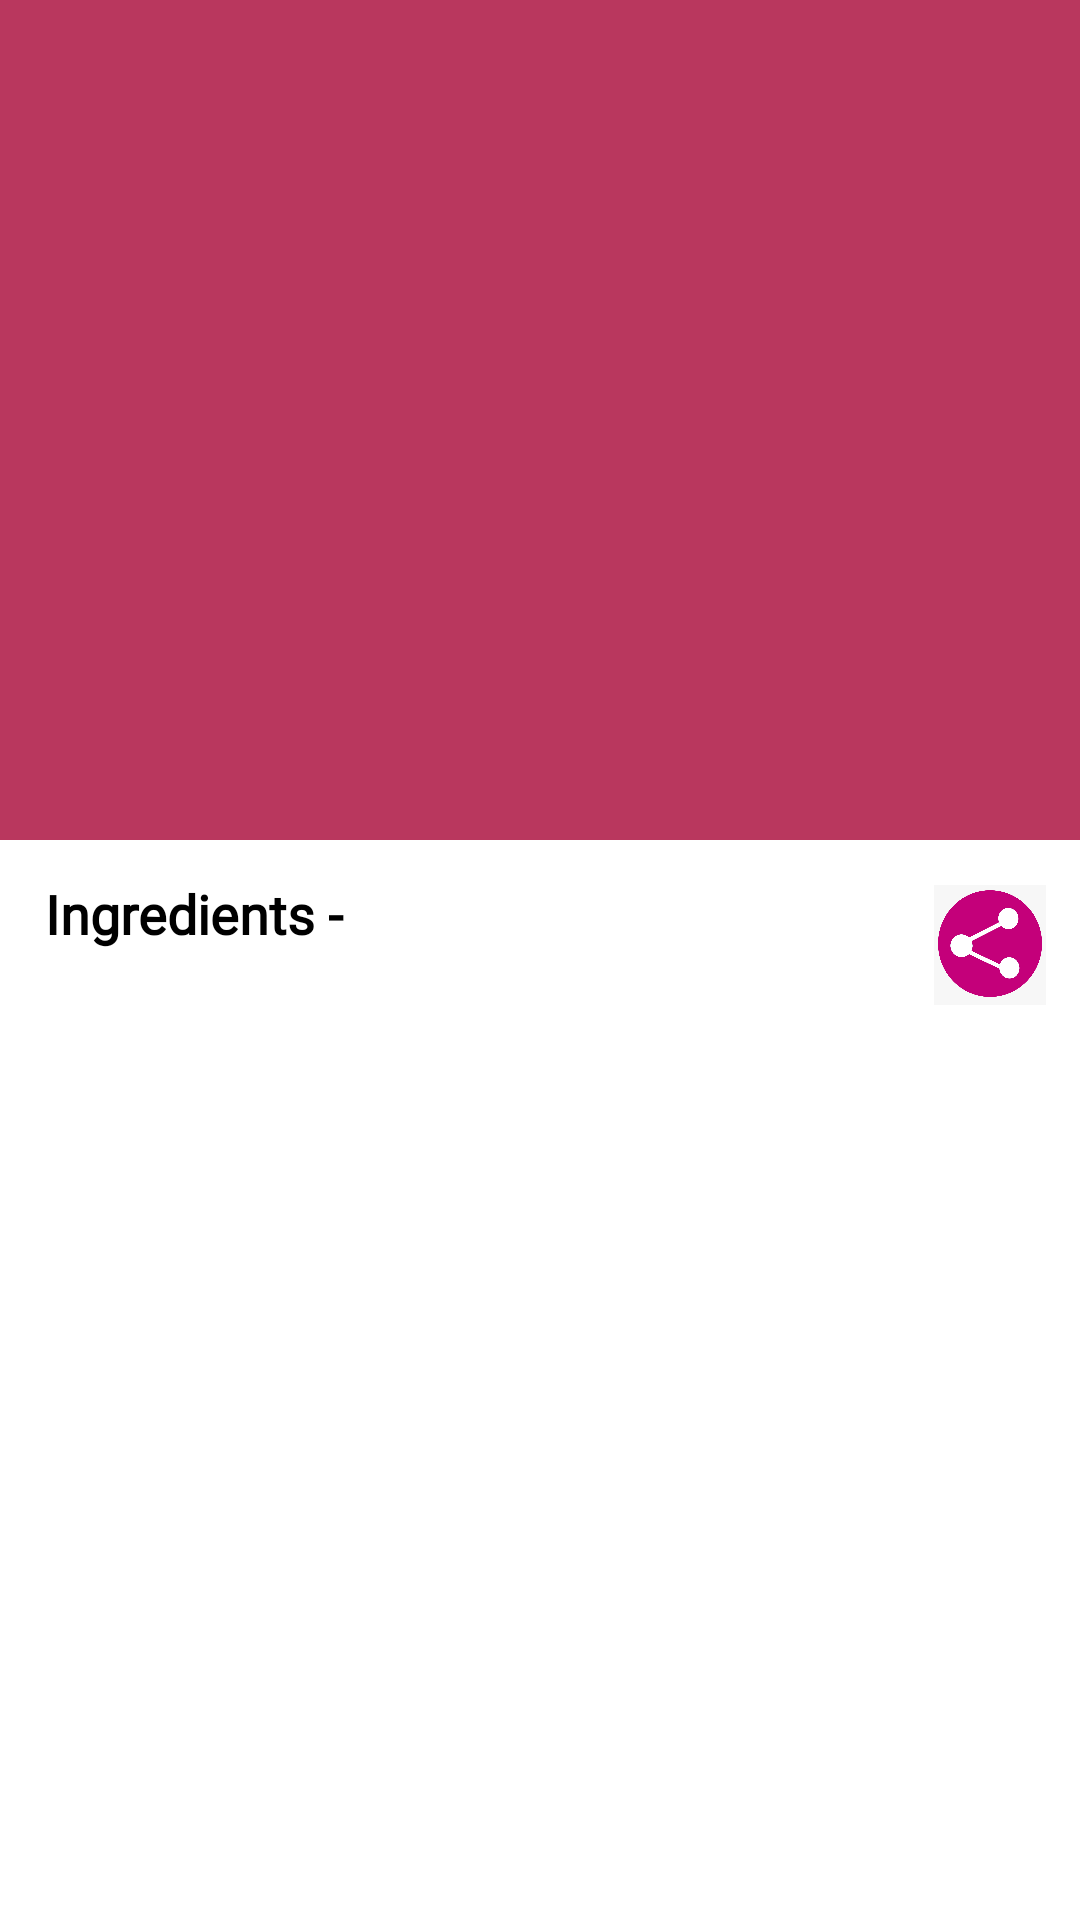

Icons on this 1080*1920 Android screen, each with its box as bbox(x1, y1, x2, y2):
share: bbox(938, 890, 1042, 997)
